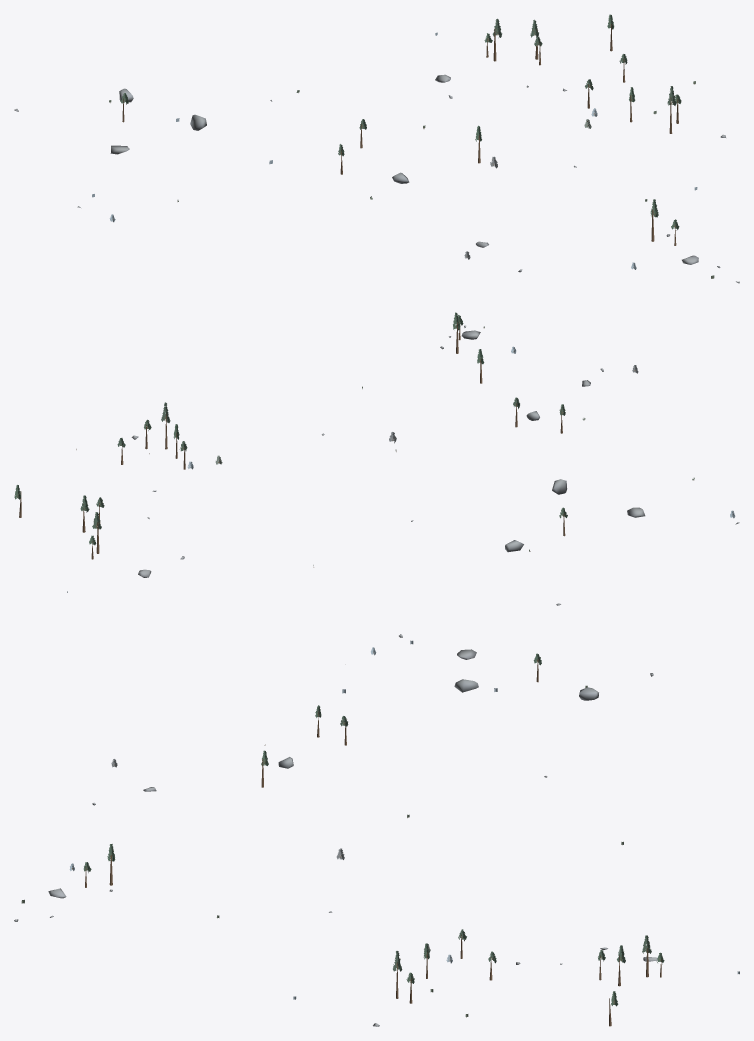
The model's file is frost_land_scatter_c21_12_lod1.glb.
3 views of the same model, one above another, from view 1: azimuth 30°, elevation 25°; view 2: azimuth 150°, elevation 25°; view 3: azimuth 270°, elevation 25° (orthographic). The views are drawn at different scales.
Parts seen in each view (by area): view 1: frost_land_scatter_c21_12_lod1; view 2: frost_land_scatter_c21_12_lod1; view 3: frost_land_scatter_c21_12_lod1.
Part boxes in pixels (bbox=[...]): frost_land_scatter_c21_12_lod1: bbox=[14, 14, 739, 283]; frost_land_scatter_c21_12_lod1: bbox=[14, 312, 739, 605]; frost_land_scatter_c21_12_lod1: bbox=[14, 634, 739, 1026].
Bounding box in the file's own units: 193 × 37.46 × 184.
